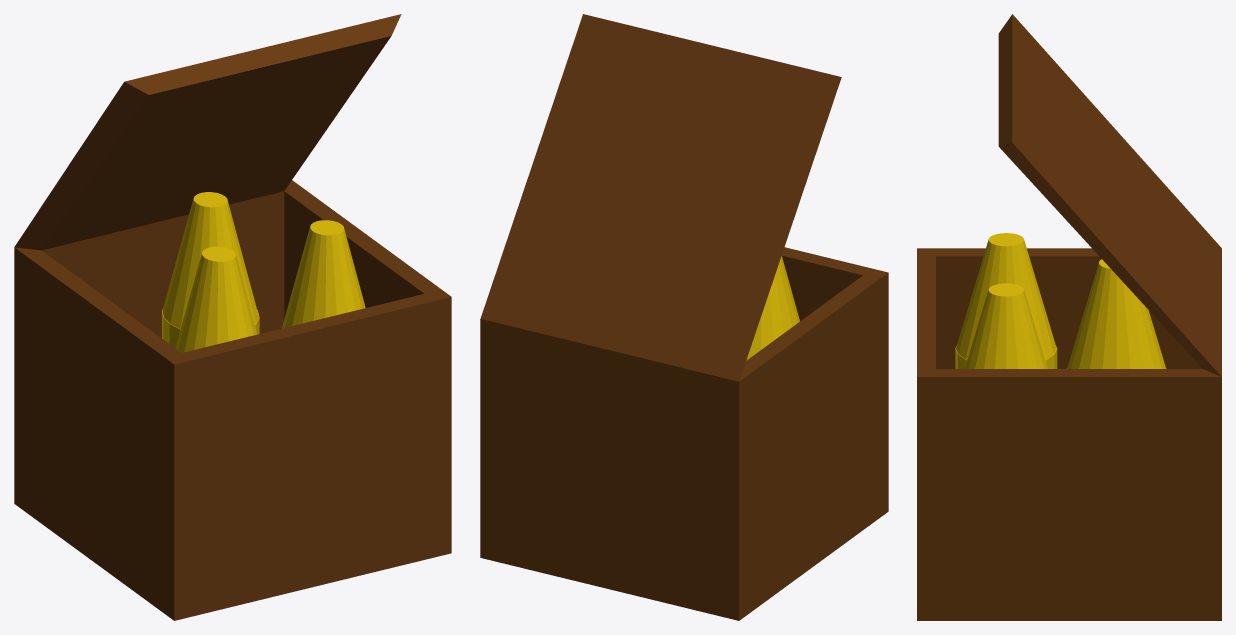
File: ammobox.fbx
3 views of the same model, side by side, from view 1: azimuth 30°, elevation 25°; view 2: azimuth 150°, elevation 25°; view 3: azimuth 270°, elevation 25° (orthographic). The views are drawn at different scales.
Visible parts, largest first — view 1: Cube, Cone.001; view 2: Cube, Cone.001; view 3: Cube, Cone.001.
Boxes of the visible parts, x1,y1,x2,y2 form: Cube: (14,14,451,620); Cone.001: (162,192,365,352); Cube: (480,14,888,620); Cone.001: (746,256,799,360); Cube: (917,14,1221,620); Cone.001: (955,233,1166,368).
Bounding box in the file's own units: 130 × 224 × 130.
